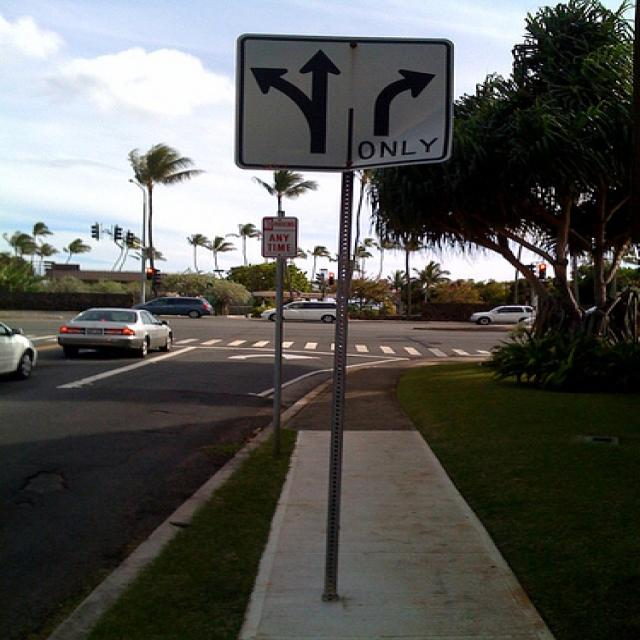Vehicle: (56, 308, 177, 358), (0, 319, 41, 381), (132, 297, 214, 320), (260, 300, 336, 324), (468, 305, 536, 326), (519, 316, 535, 325)
